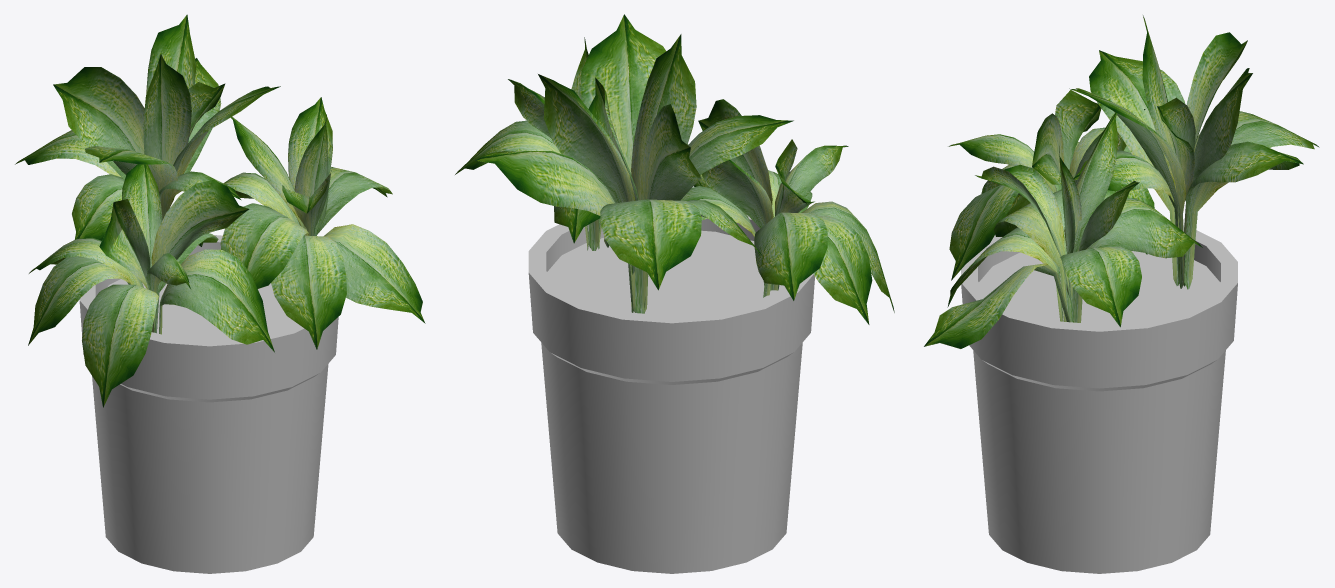
The model's file is Plant 1.fbx.
The picture shows the model from 3 angles, left to right: view 1: azimuth 30°, elevation 25°; view 2: azimuth 150°, elevation 25°; view 3: azimuth 270°, elevation 25°; orthographic projection. The views are drawn at different scales.
Visible parts, largest first — view 1: Plant 1; view 2: Plant 1; view 3: Plant 1.
Boxes of the visible parts, box(x1,y1,x2,y2) form: Plant 1: box(15, 14, 425, 573); Plant 1: box(455, 14, 894, 573); Plant 1: box(924, 15, 1319, 573).
Size of the model in its own units: 17.8 by 21.59 by 15.61.
